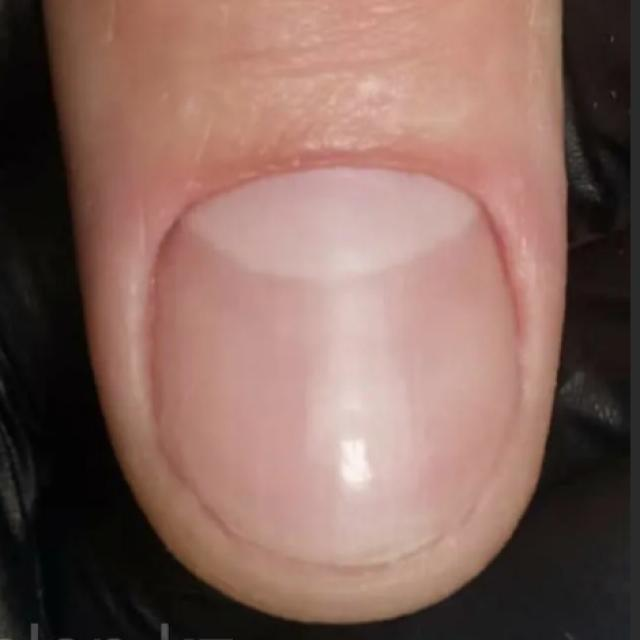Nail: (154, 169, 517, 564)
